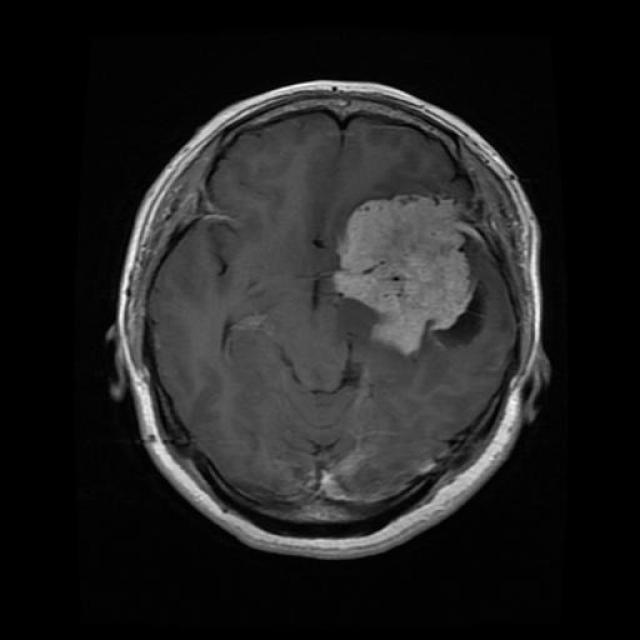Brain-Tumor: (321, 182, 496, 369)
